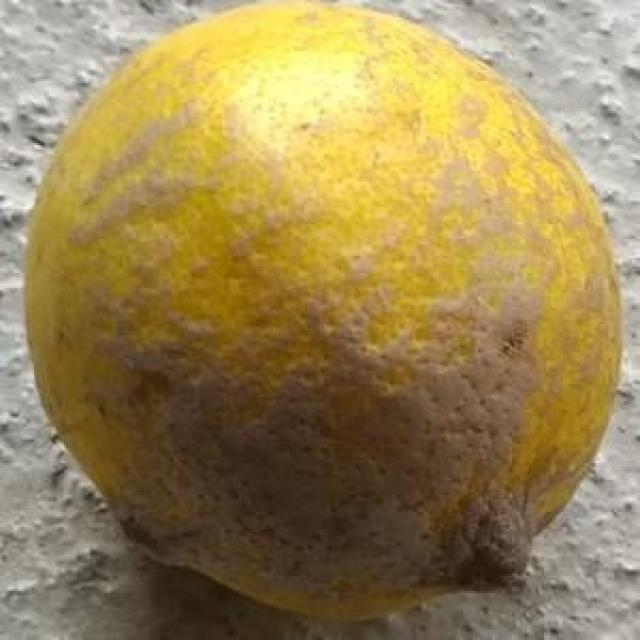lemon: (17, 2, 625, 624)
